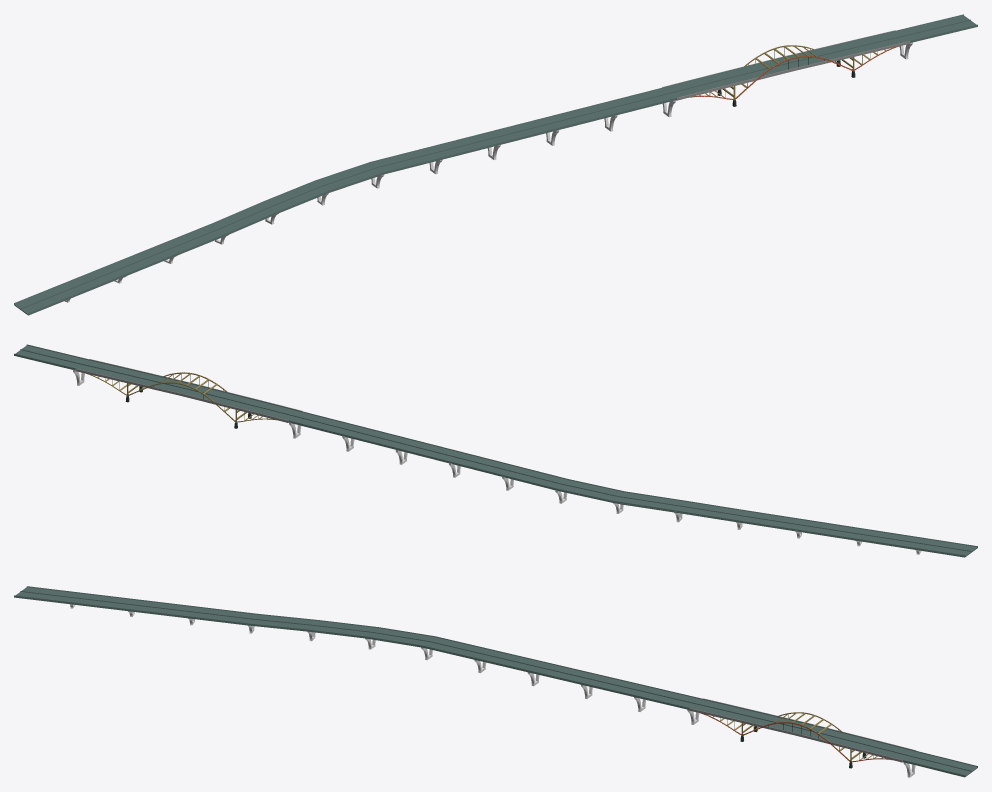
The model's file is Bridge_with_Larger_Lights.FBX.
3 views of the same model, one above another, from view 1: azimuth 30°, elevation 25°; view 2: azimuth 150°, elevation 25°; view 3: azimuth 330°, elevation 25° (orthographic). The views are drawn at different scales.
Parts seen in each view (by area): view 1: Road, Bridge, Box3105; view 2: Road, Bridge, Box3104; view 3: Road, Bridge, Box3105.
Part boxes in pixels (<box>): Road: <box>14,14,977,315</box>; Bridge: <box>691,45,896,100</box>; Box3105: <box>676,41,910,100</box>; Road: <box>14,344,977,557</box>; Bridge: <box>86,372,276,422</box>; Box3104: <box>75,368,288,422</box>; Road: <box>14,586,977,777</box>; Bridge: <box>702,712,889,762</box>; Box3105: <box>689,708,902,762</box>.
Size of the model in its own units: 2081 by 68.49 by 223.
